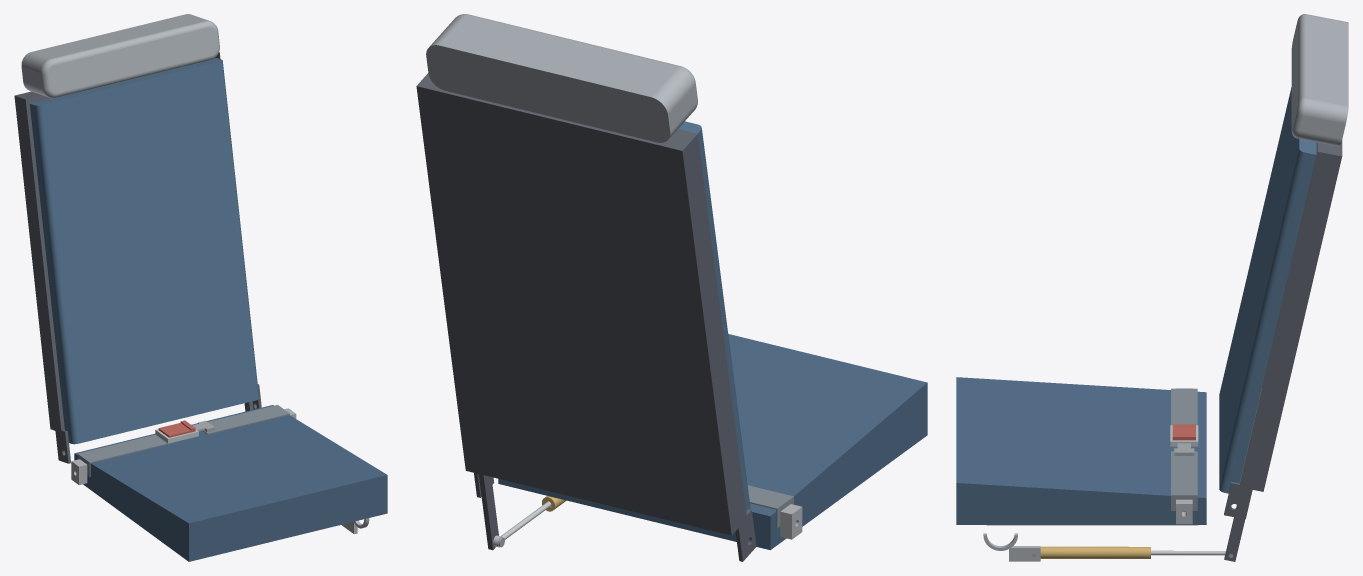
File: step_05.glb
The picture shows the model from 3 angles, left to right: view 1: azimuth 30°, elevation 25°; view 2: azimuth 150°, elevation 25°; view 3: azimuth 270°, elevation 25°; orthographic projection. The views are drawn at different scales.
Parts seen in each view (by area): view 1: part__back cushion cover, part__cushion cover, part__head rest, part__back shell, part__belt webbing, buckle side, part__belt webbing, adjuster side; view 2: part__back shell, part__cushion cover, part__head rest, part__back cushion cover, part__belt webbing, buckle side, part__belt anchor, left; view 3: part__cushion cover, part__back cushion cover, part__back shell, part__head rest, part__recline lock, part__belt webbing, adjuster side, part__belt webbing, buckle side, part__recline lock bracket.
Boxes of the visible parts, x1,y1,x2,y2 form: part__back cushion cover: (29, 58, 259, 444); part__cushion cover: (74, 405, 387, 561); part__head rest: (21, 14, 219, 98); part__back shell: (14, 52, 261, 463); part__belt webbing, buckle side: (77, 434, 171, 476); part__belt webbing, adjuster side: (202, 405, 289, 434); part__back shell: (416, 73, 756, 561); part__cushion cover: (498, 334, 927, 550); part__head rest: (426, 14, 697, 142); part__back cushion cover: (678, 121, 750, 510); part__belt webbing, buckle side: (747, 485, 793, 528); part__belt anchor, left: (780, 504, 802, 539); part__cushion cover: (956, 377, 1206, 524); part__back cushion cover: (1219, 87, 1316, 493); part__back shell: (1224, 140, 1342, 561); part__head rest: (1291, 14, 1348, 146); part__recline lock: (1040, 546, 1150, 558); part__belt webbing, adjuster side: (1171, 451, 1197, 510); part__belt webbing, buckle side: (1171, 388, 1197, 425); part__recline lock bracket: (983, 533, 1040, 561).
Bounding box in the file's own units: 492 × 903 × 705.
